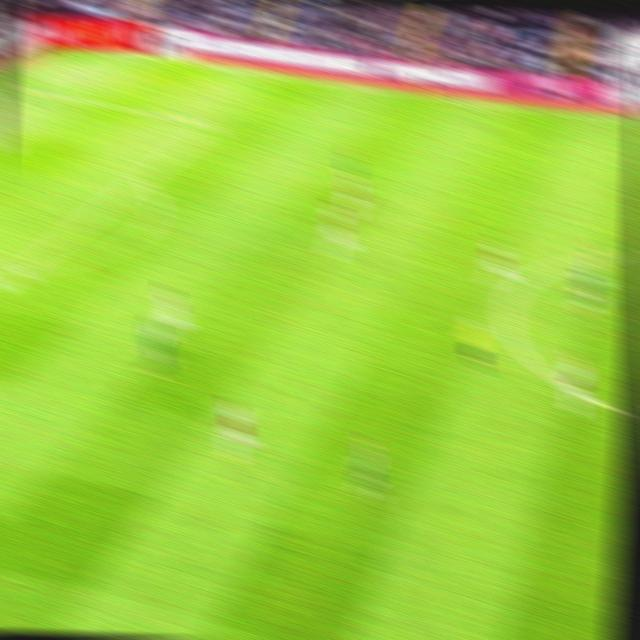bigarea_top_inner: (198, 111, 225, 135)
bigarea_top_outter: (11, 76, 39, 99)
bottom_arc_area_intersection: (7, 257, 35, 283)
corner: (92, 42, 119, 59)
smallarea_top_inner: (0, 133, 18, 153)
top_arc_area_intersection: (127, 168, 153, 190)
